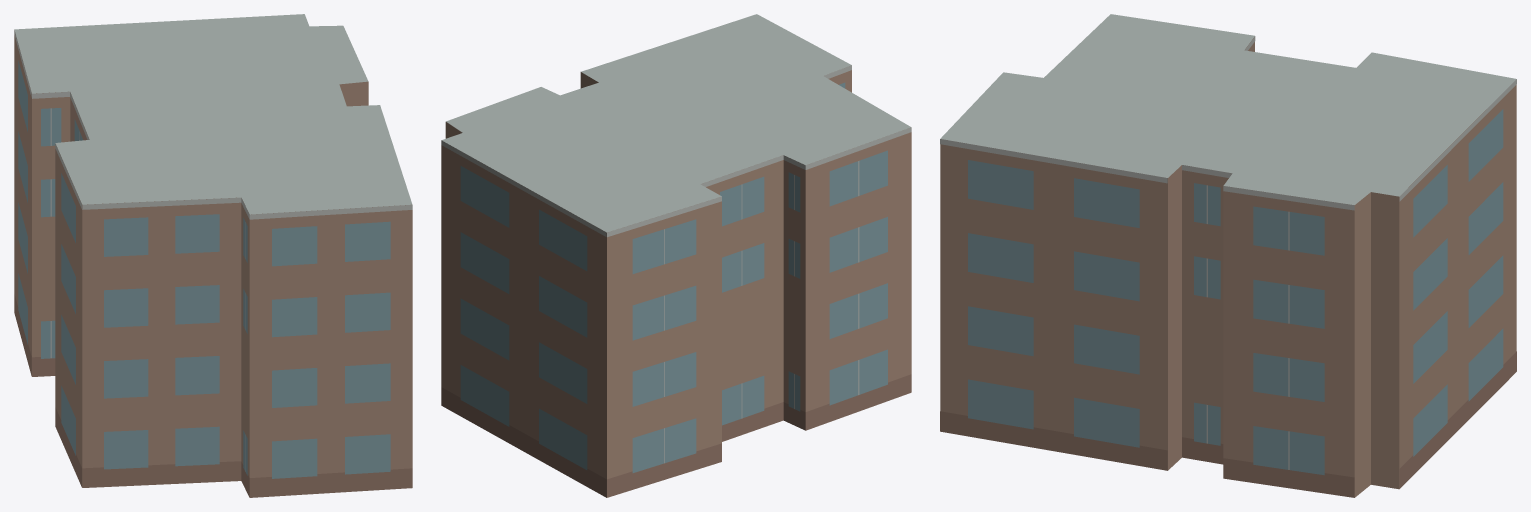
Rendered from survey-upis-32995984.glb.
The picture shows the model from 3 angles, left to right: view 1: azimuth 30°, elevation 25°; view 2: azimuth 150°, elevation 25°; view 3: azimuth 270°, elevation 25°; orthographic projection. The views are drawn at different scales.
Parts seen in each view (by area): view 1: survey-upis-32995984.tmp; view 2: survey-upis-32995984.tmp; view 3: survey-upis-32995984.tmp.
Boxes of the visible parts, x1=… form: survey-upis-32995984.tmp: x1=14, y1=14, x2=412, y2=497; survey-upis-32995984.tmp: x1=441, y1=14, x2=911, y2=497; survey-upis-32995984.tmp: x1=940, y1=14, x2=1516, y2=497.
Bounding box in the file's own units: 18.71 × 13.35 × 23.85.
